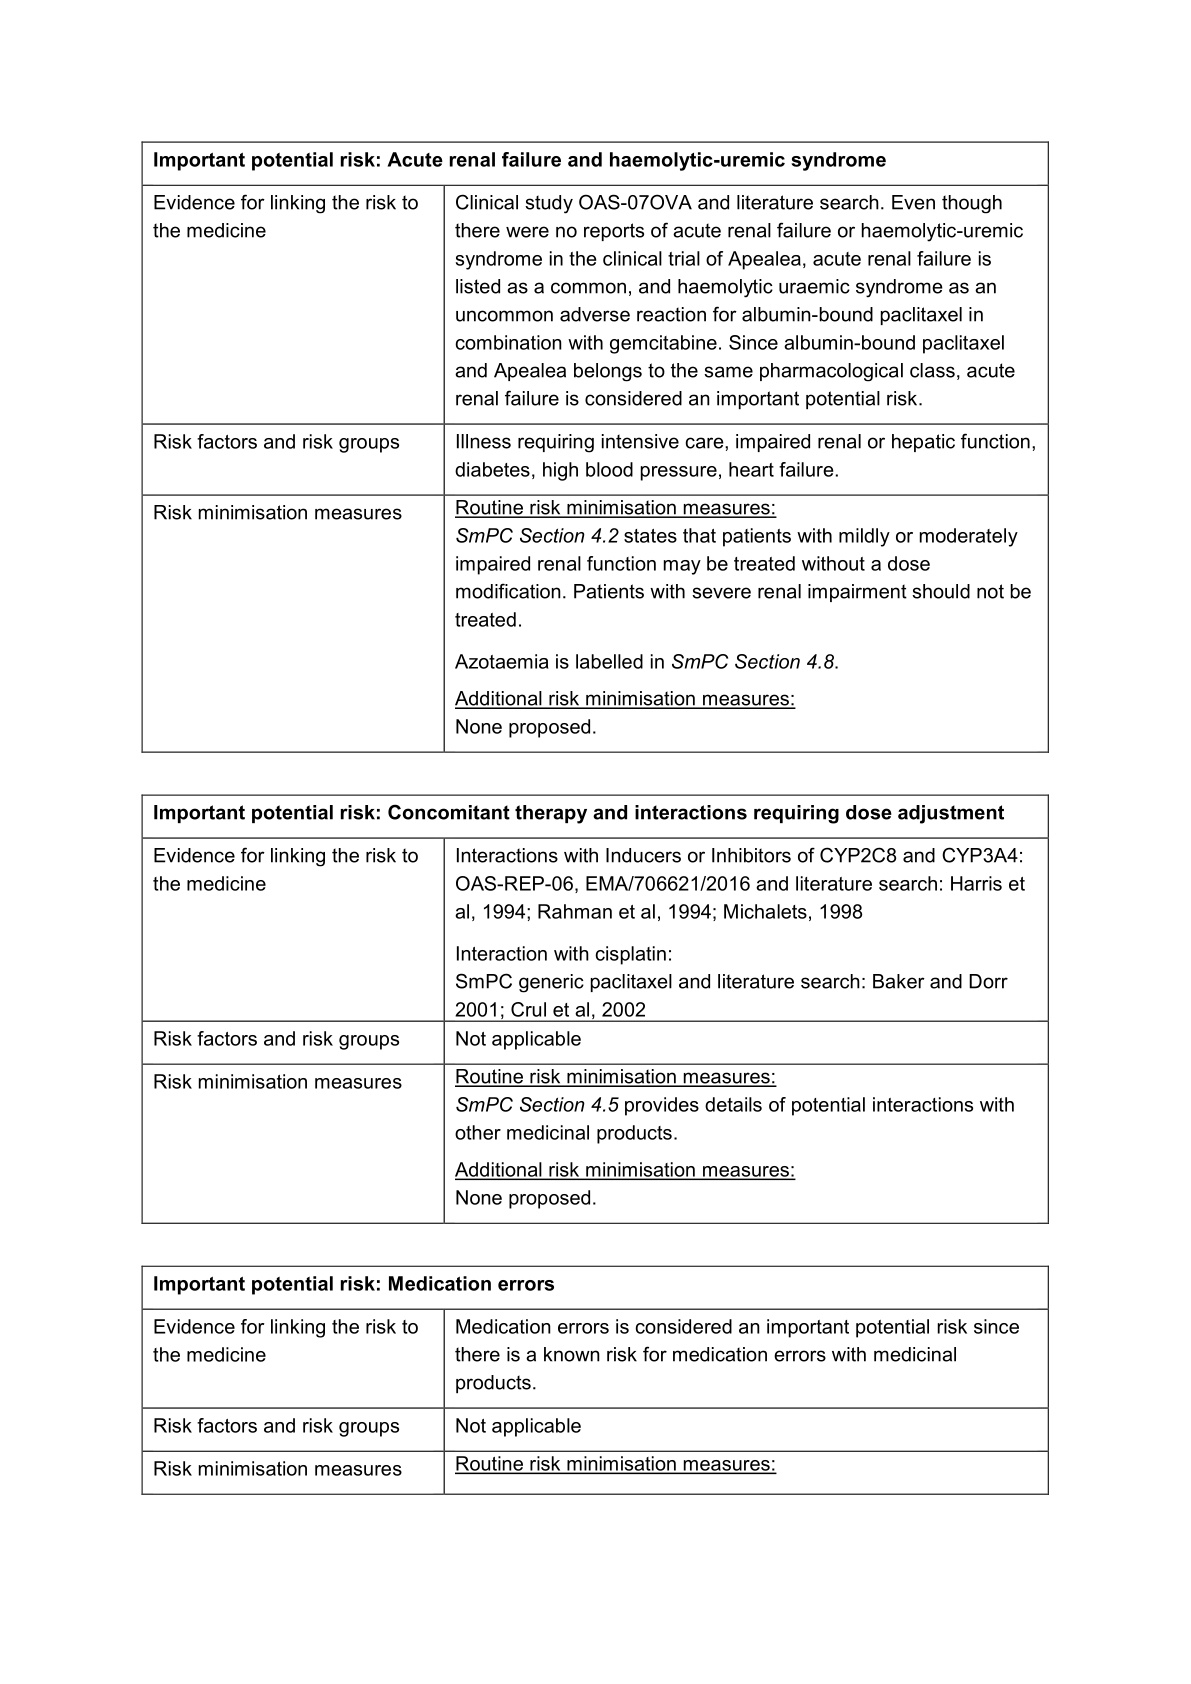merged_cells: (140, 140, 1049, 752), (140, 794, 1049, 1225), (140, 1265, 1049, 1496)
